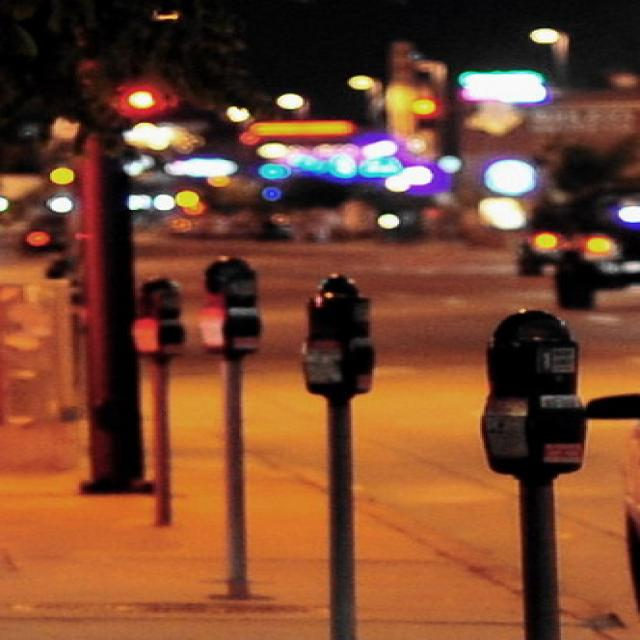Vehicle: (556, 190, 639, 310), (516, 202, 582, 276), (17, 210, 77, 254)
